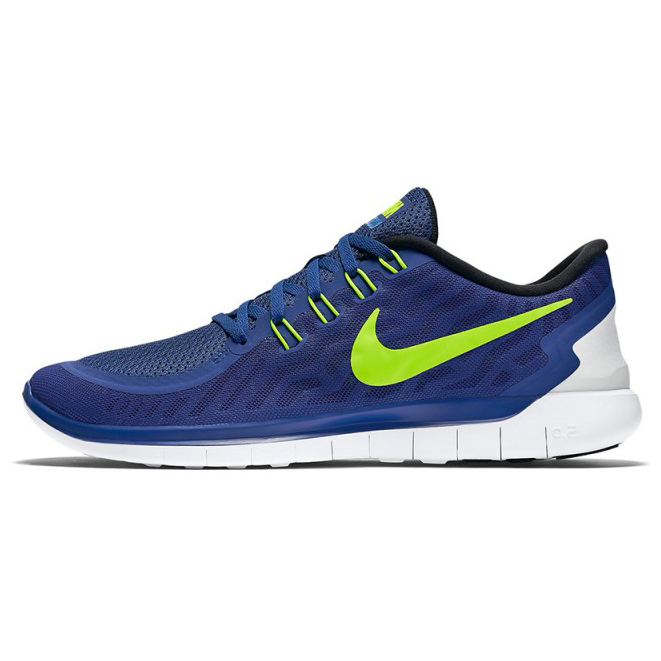Nike: (341, 292, 578, 391)
